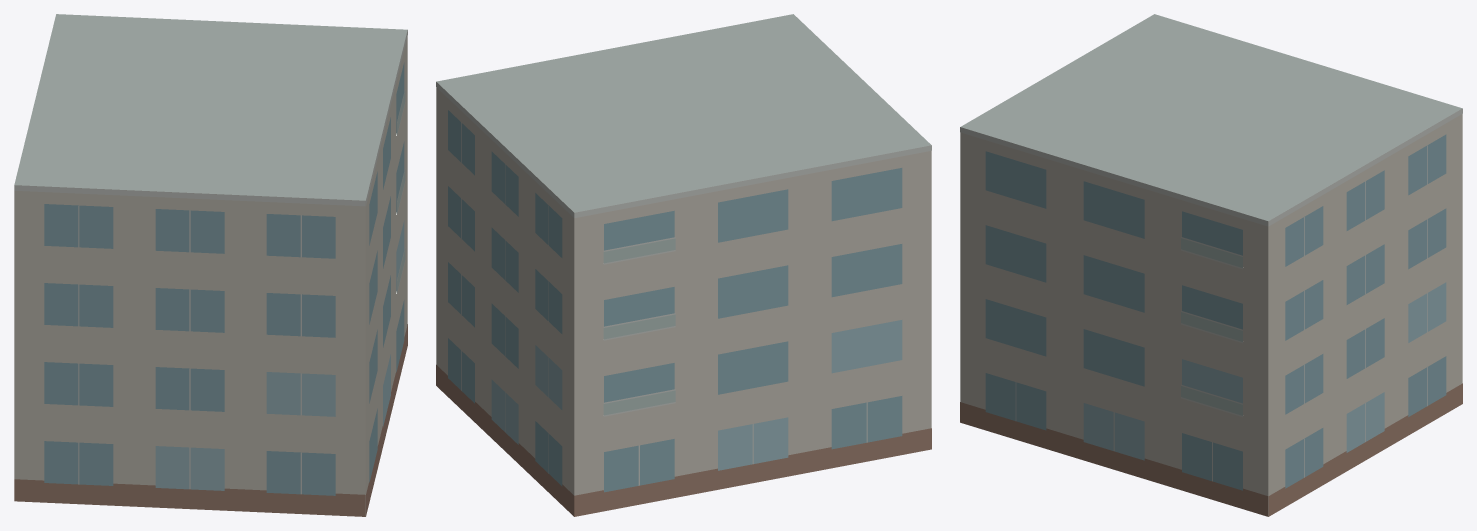
Rendered from survey-upis-32718552.glb.
3 views of the same model, side by side, from view 1: azimuth 30°, elevation 25°; view 2: azimuth 150°, elevation 25°; view 3: azimuth 270°, elevation 25° (orthographic). The views are drawn at different scales.
Visible parts, largest first — view 1: survey-upis-32718552.tmp; view 2: survey-upis-32718552.tmp; view 3: survey-upis-32718552.tmp.
Boxes of the visible parts, x1,y1,x2,y2 form: survey-upis-32718552.tmp: (14,14,407,516); survey-upis-32718552.tmp: (436,14,931,516); survey-upis-32718552.tmp: (960,14,1462,516).
Size of the model in its own units: 20.46 by 13.6 by 20.96.
